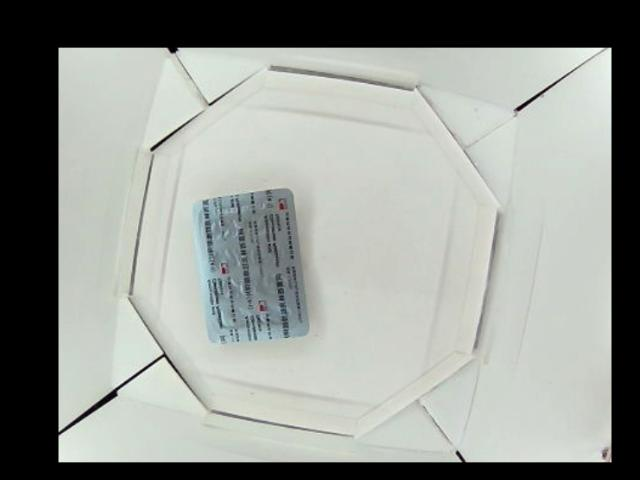Medicine: (192, 186, 311, 346)
